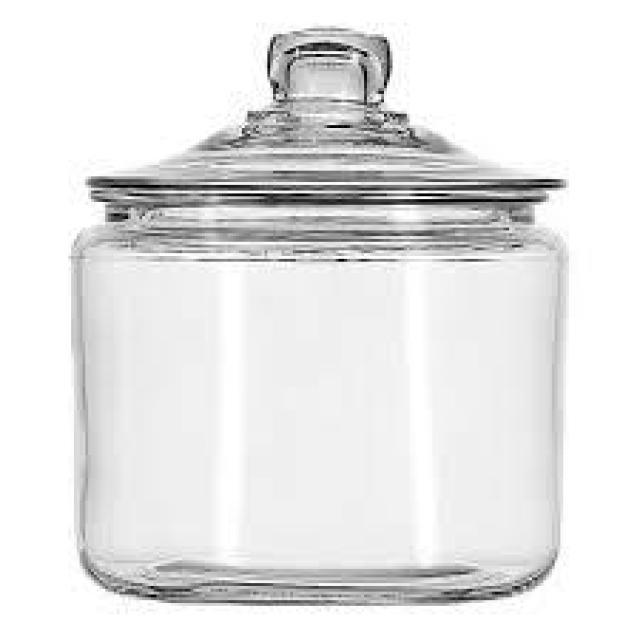Glass: (69, 24, 567, 608)
